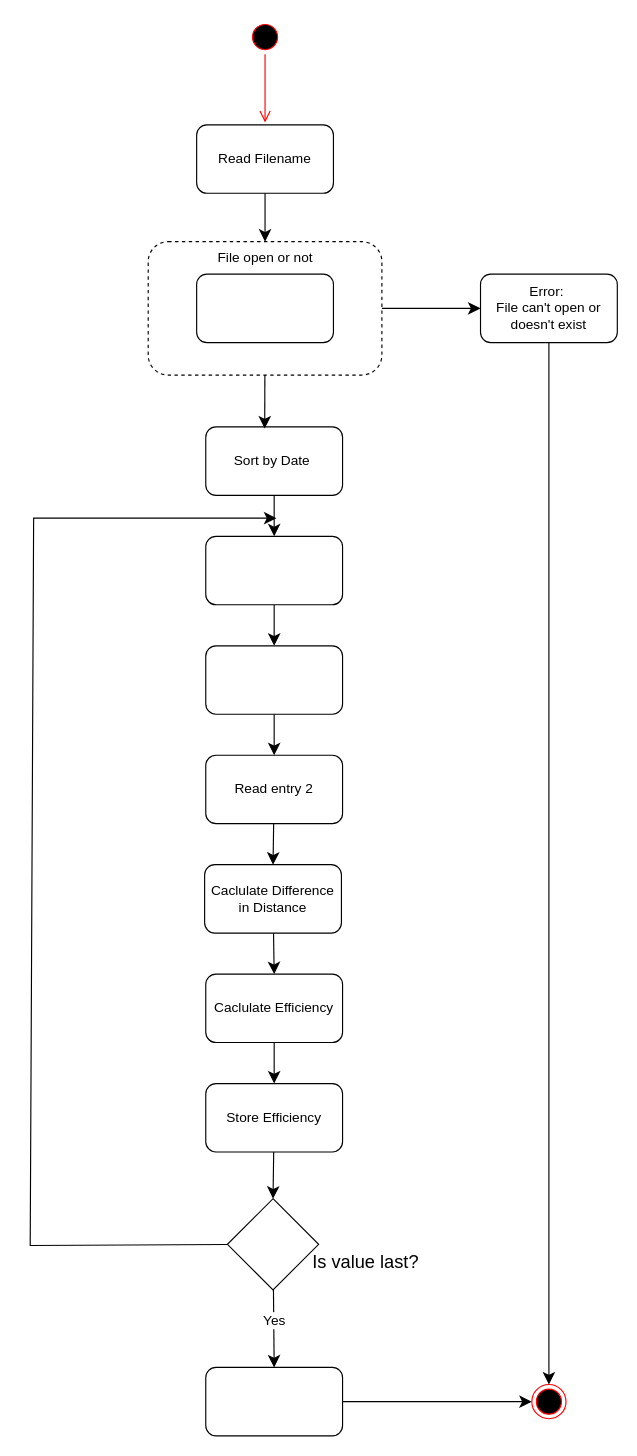
Image size: 637x1456. Some labels were removed from this diagram. Each missing label, with the centre of its shape:
"Export/ Print Results to file" belongs at [274,1401].
"Open File" belongs at [264,308].
"Read entry 1" belongs at [274,570].
"Store entry 1" belongs at [274,679].
